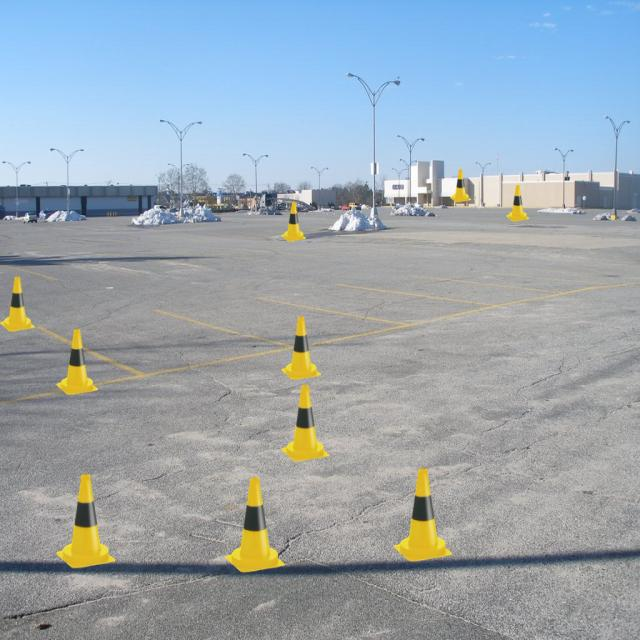yellow_cone: (225, 478, 285, 572), (56, 474, 116, 568), (393, 468, 452, 562), (282, 385, 330, 462), (56, 329, 98, 395), (281, 317, 321, 380), (0, 276, 35, 332), (282, 202, 306, 242), (506, 185, 530, 222), (450, 169, 471, 203)
